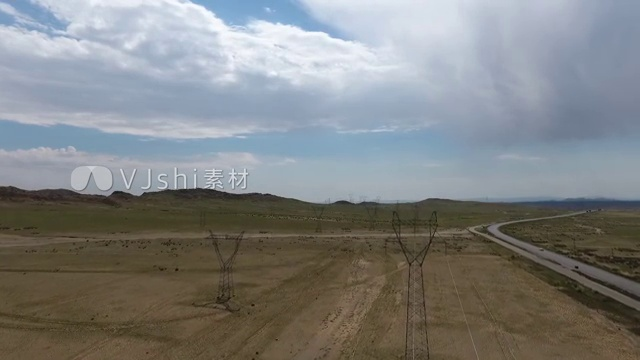tower_body: (383, 205, 445, 360), (201, 225, 251, 308)
tower_foot: (402, 322, 433, 359), (215, 280, 239, 304)
tower_head: (387, 209, 441, 266), (204, 227, 247, 270)
